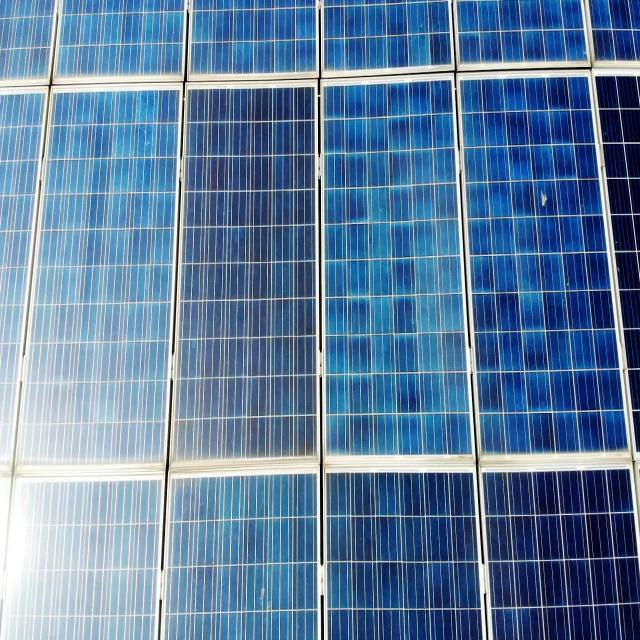faulty: (456, 72, 638, 460)
no faulty: (0, 470, 636, 640), (23, 81, 185, 481), (318, 78, 480, 469), (170, 80, 322, 469)
